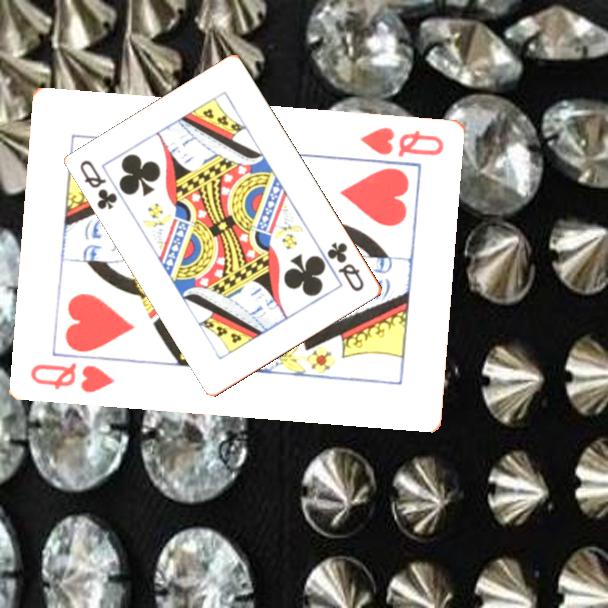c12: (77, 157, 121, 213), (324, 239, 368, 294)
h12: (27, 358, 118, 396), (357, 123, 447, 160)
